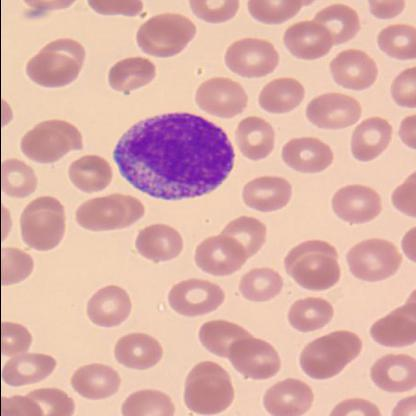Promyelocyte: (107, 110, 234, 200)
